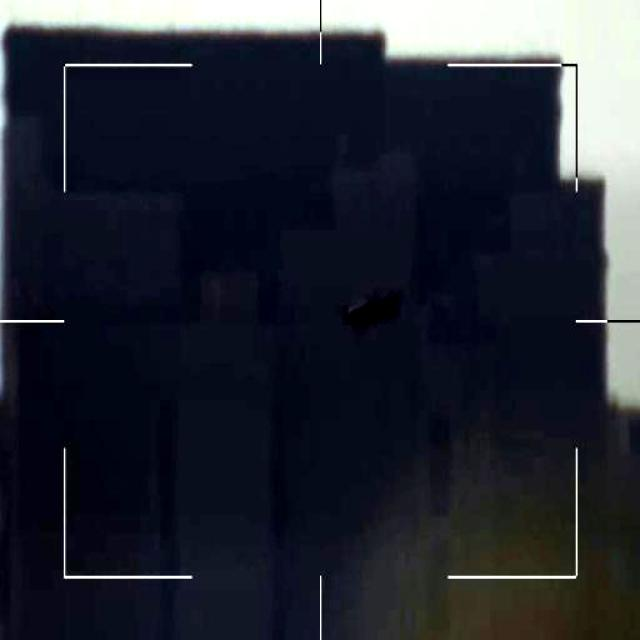bird: (341, 290, 402, 340)
